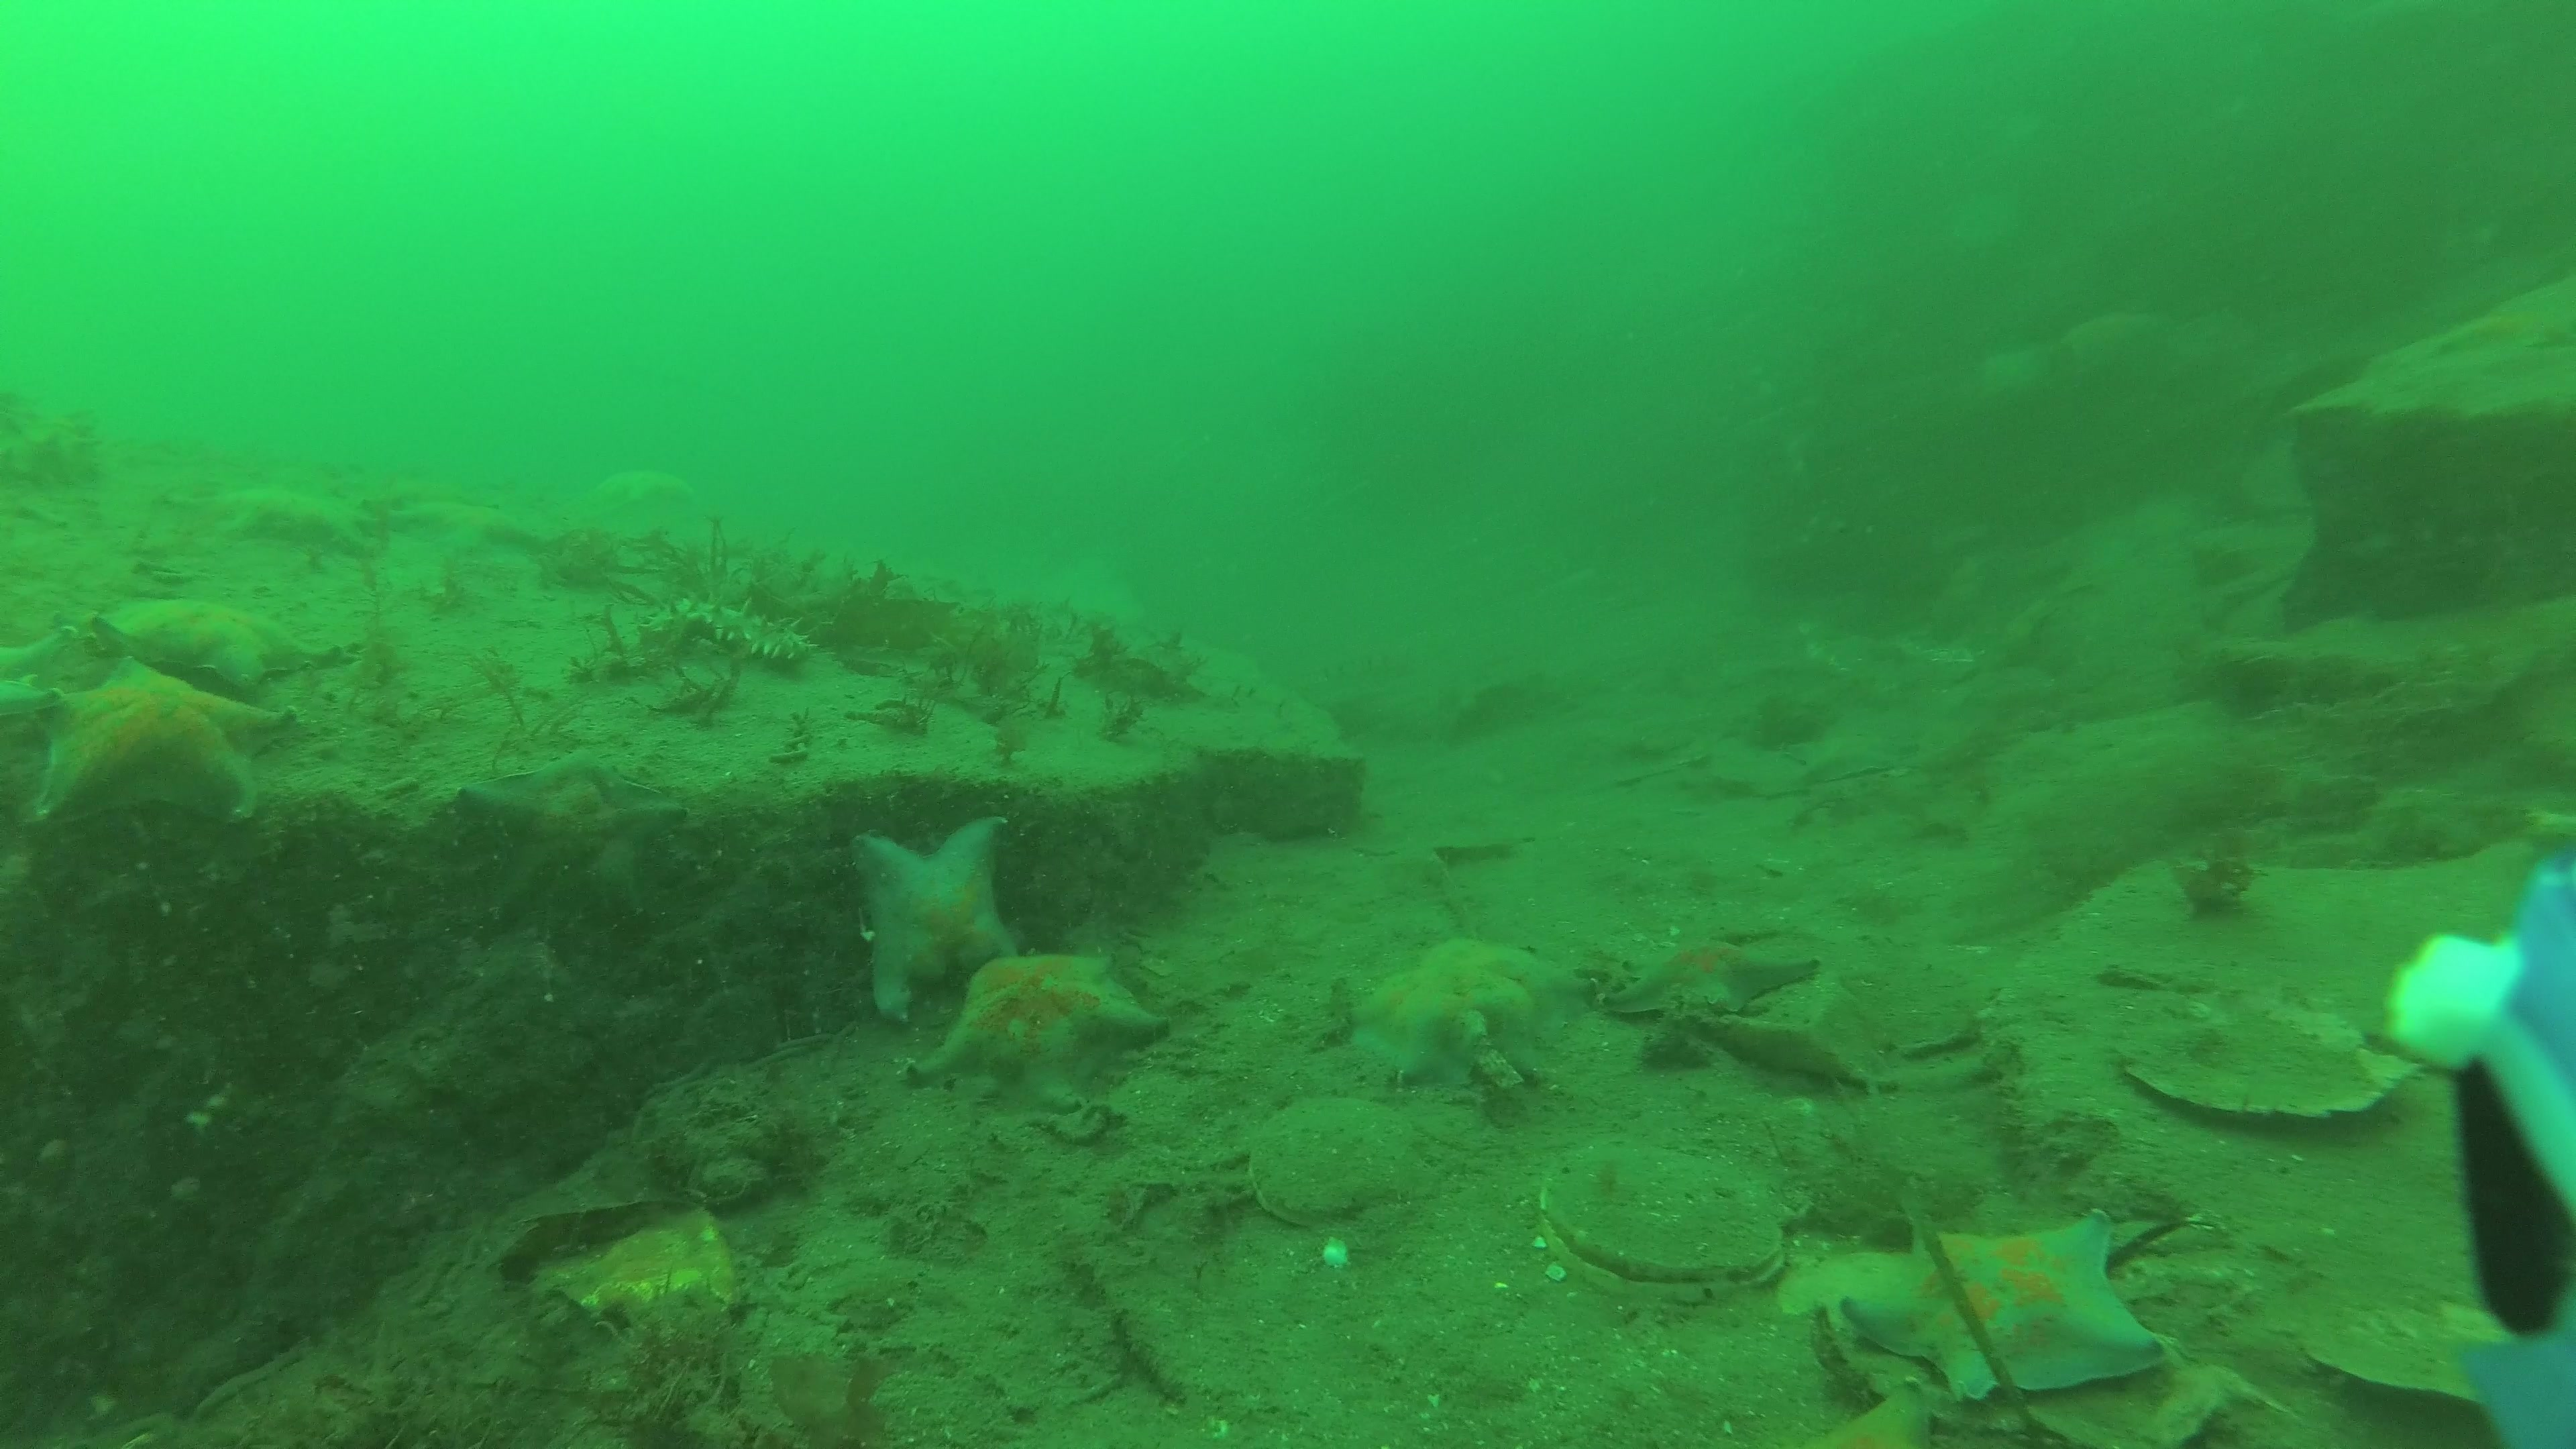holothurian: (2296, 1293, 2512, 1407), (648, 591, 823, 663)
scallop: (2118, 982, 2413, 1122), (1249, 1088, 1428, 1228)
starfish: (1838, 1208, 2174, 1405), (25, 653, 292, 828), (904, 945, 1171, 1092), (853, 814, 1024, 1026), (1357, 938, 1582, 1047), (94, 591, 324, 694), (1598, 924, 1810, 1026), (211, 483, 387, 556)
